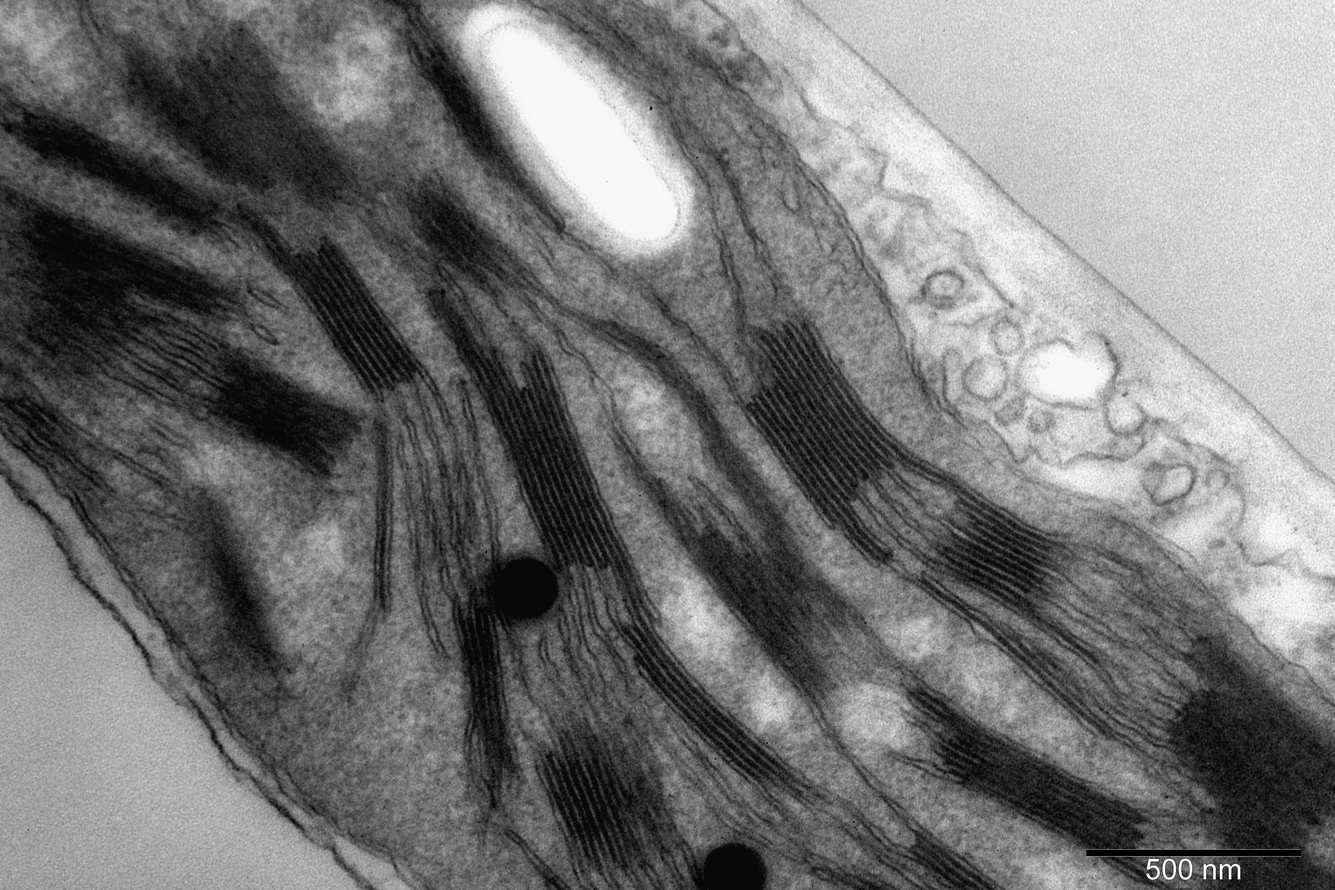granum: (592, 318, 864, 708), (425, 293, 663, 623), (905, 676, 1146, 877), (113, 20, 357, 208), (742, 316, 910, 574), (1165, 633, 1335, 886), (613, 621, 816, 804), (244, 217, 425, 396), (17, 203, 246, 325), (12, 108, 223, 237), (399, 10, 533, 185), (205, 346, 366, 484), (928, 479, 1071, 629), (531, 705, 648, 876), (405, 169, 538, 292), (450, 605, 526, 781), (975, 619, 1091, 719), (0, 380, 83, 470), (904, 828, 1005, 890), (829, 867, 903, 890)
